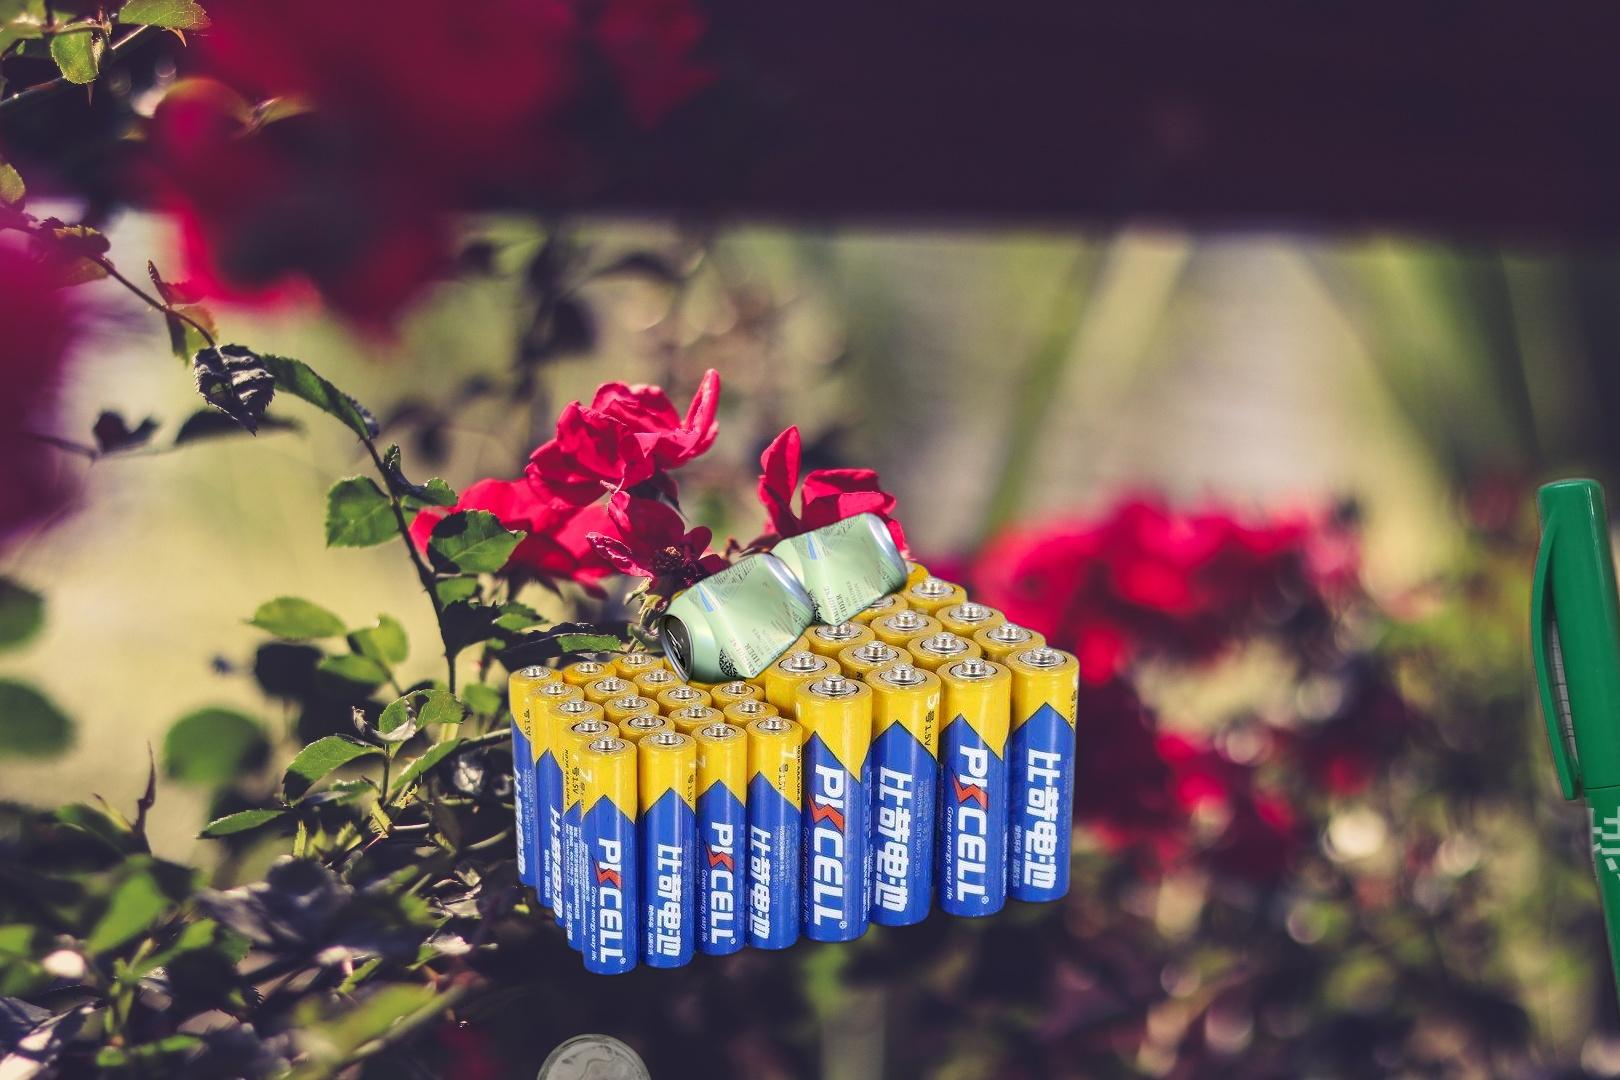battery: (501, 553, 1086, 981)
glass: (532, 1031, 658, 1080)
metal-cans: (653, 546, 818, 691), (758, 505, 912, 633)
penholder: (1520, 453, 1620, 1080)
